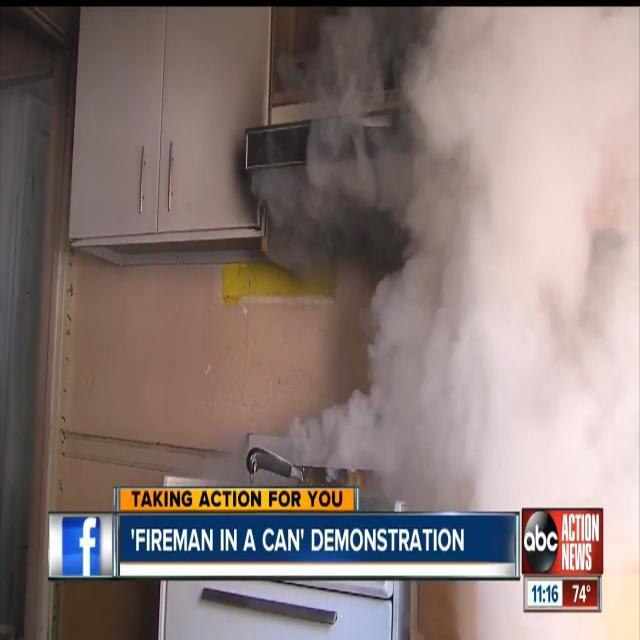Smoke: (364, 5, 630, 473)
